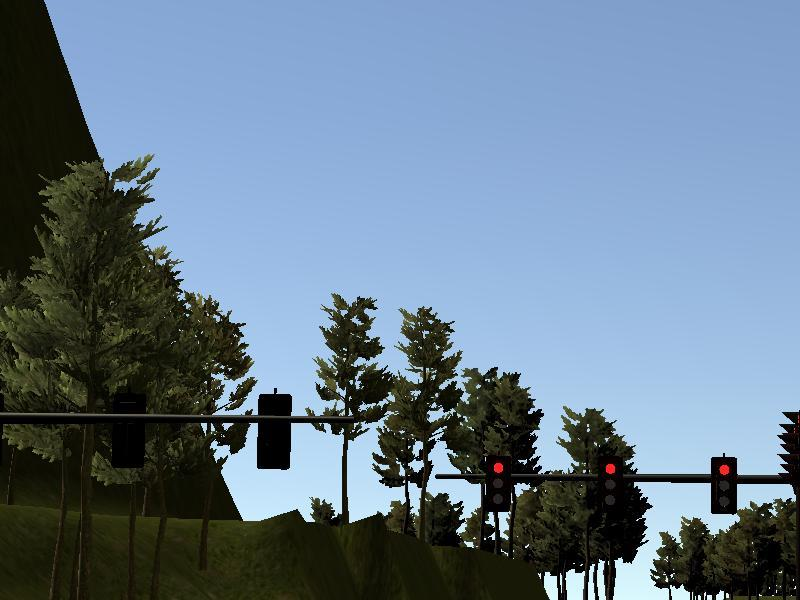Red: (711, 456, 736, 512), (599, 456, 622, 511), (489, 459, 511, 510)
